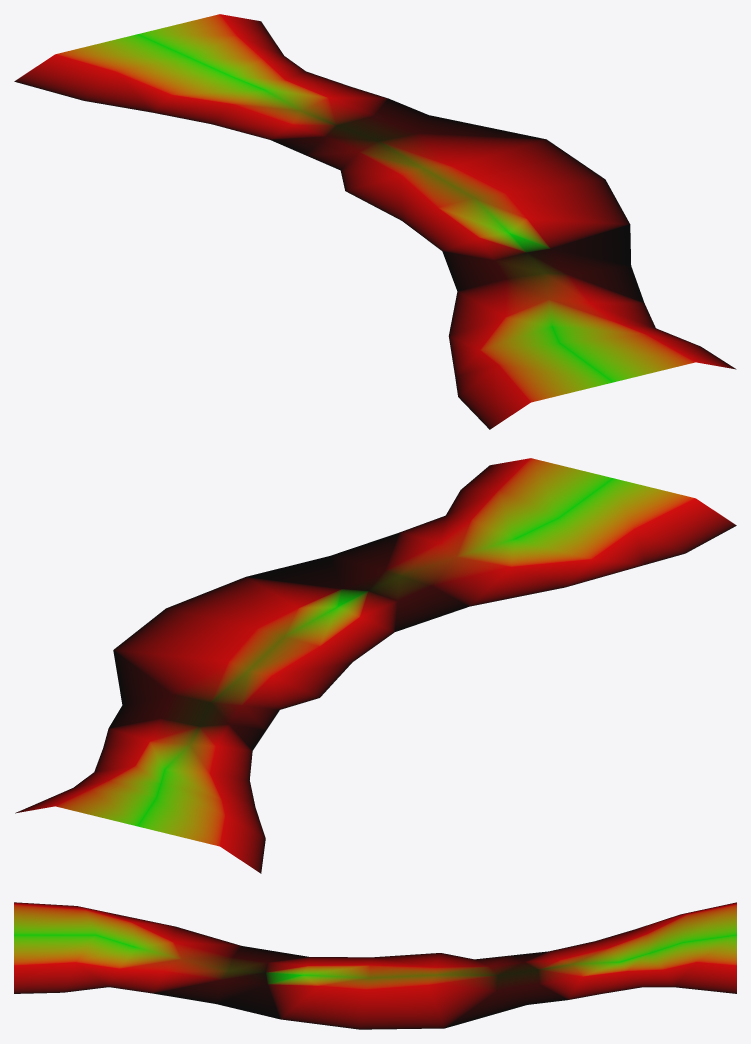
File: Section_WayLine05_Swamp_Terrain.fbx
3 views of the same model, one above another, from view 1: azimuth 30°, elevation 25°; view 2: azimuth 150°, elevation 25°; view 3: azimuth 270°, elevation 25° (orthographic). The views are drawn at different scales.
Visible parts, largest first — view 1: Section_WayLine05_Swamp_Terrain; view 2: Section_WayLine05_Swamp_Terrain; view 3: Section_WayLine05_Swamp_Terrain.
Boxes of the visible parts, <box> form: Section_WayLine05_Swamp_Terrain: <box>14,14,736,429</box>; Section_WayLine05_Swamp_Terrain: <box>15,458,736,873</box>; Section_WayLine05_Swamp_Terrain: <box>14,902,736,1029</box>.
Bounding box in the file's own units: 2084 × 100 × 5000.
